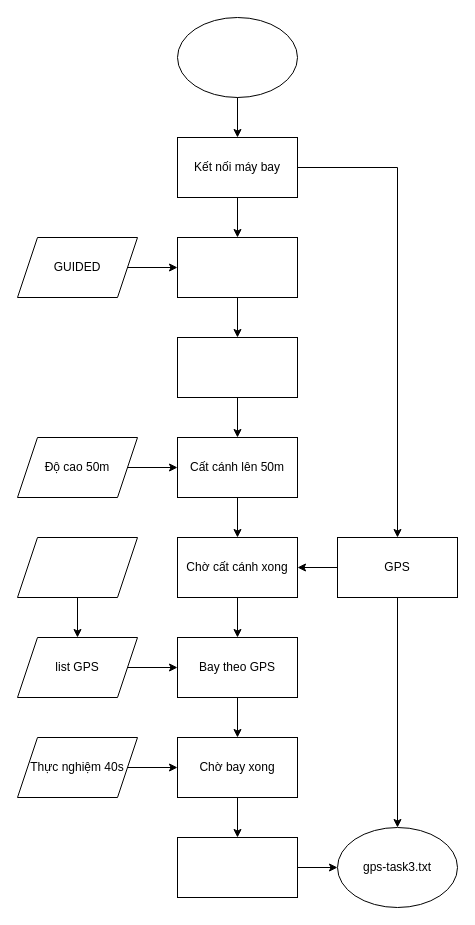
The diagram is 475 pixels wide and 925 high, and some of its shapes have lost their labels. Each missing label, with the centre of its shape:
*.waypoints: (77,567)
bay về, hạ cánh, tắt máy: (237,867)
Chọn chế độ bay: (237,267)
Khởi động máy bay: (237,367)
tcp:localhost:5760: (237,57)
